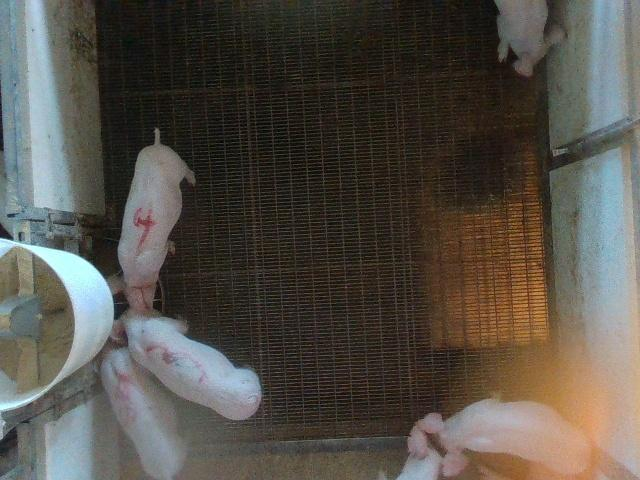pig-3: (112, 288, 261, 419)
pig-4: (118, 129, 195, 288)
pig-5: (101, 349, 186, 479)
